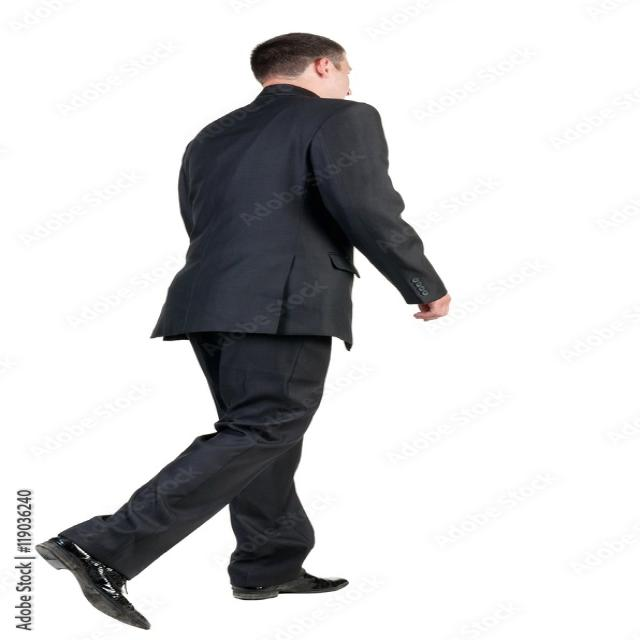Person: (38, 32, 450, 629)
